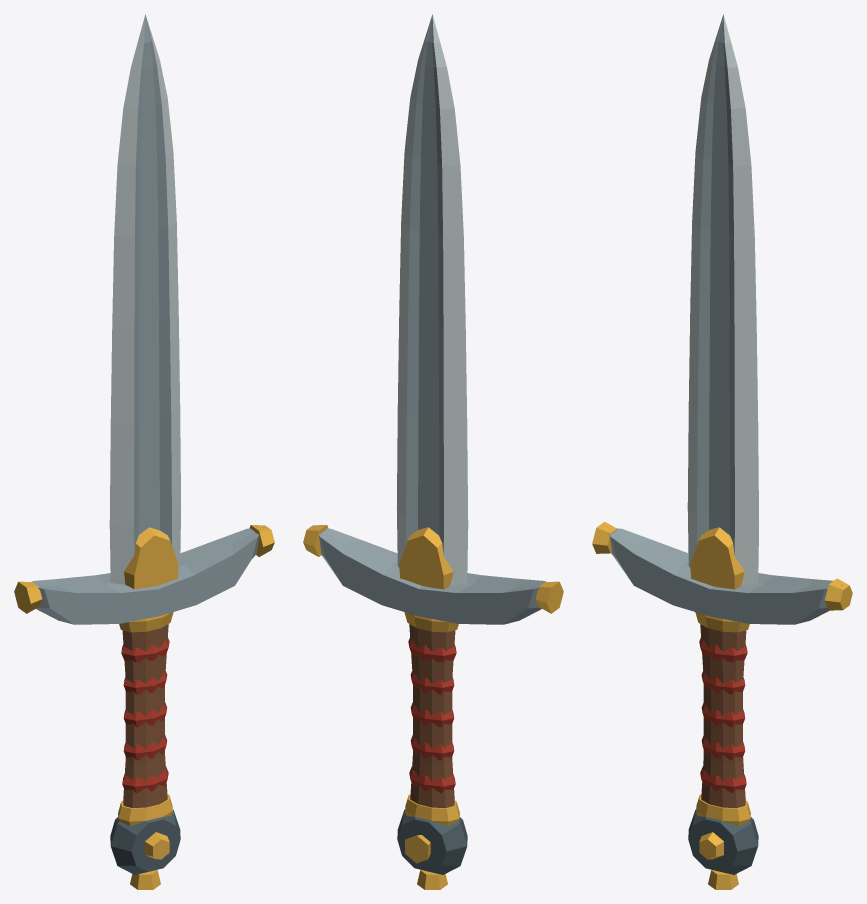
Rendered from iron_sword_world.glb.
The picture shows the model from 3 angles, left to right: view 1: azimuth 30°, elevation 25°; view 2: azimuth 150°, elevation 25°; view 3: azimuth 330°, elevation 25°; orthographic projection.
Visible parts, largest first — view 1: Sword_Blade, Sword_Edge_1, Sword_Guard, Sword_Grip, Sword_Edge_2, Sword_Pommel, Sword_Escutcheon, Sword_Ferrule_1, Sword_Quillon_Cap_1, Sword_Ferrule_2, Sword_Riser_1, Sword_Riser_5 (+3 smaller); view 2: Sword_Blade, Sword_Edge_1, Sword_Guard, Sword_Grip, Sword_Edge_2, Sword_Pommel, Sword_Escutcheon, Sword_Ferrule_1, Sword_Quillon_Cap_1, Sword_Ferrule_2, Sword_Riser_1, Sword_Riser_5 (+3 smaller); view 3: Sword_Blade, Sword_Edge_2, Sword_Guard, Sword_Grip, Sword_Edge_1, Sword_Pommel, Sword_Escutcheon, Sword_Ferrule_1, Sword_Quillon_Cap_2, Sword_Ferrule_2, Sword_Riser_1, Sword_Riser_5 (+4 smaller).
Part boxes in pixels (x1=…): Sword_Blade: x1=134, y1=14, x2=171, y2=553; Sword_Edge_1: x1=109, y1=15, x2=145, y2=584; Sword_Guard: x1=32, y1=527, x2=264, y2=624; Sword_Grip: x1=122, y1=624, x2=168, y2=807; Sword_Edge_2: x1=146, y1=17, x2=180, y2=567; Sword_Pommel: x1=110, y1=809, x2=180, y2=874; Sword_Escutcheon: x1=124, y1=527, x2=178, y2=589; Sword_Ferrule_1: x1=118, y1=794, x2=172, y2=825; Sword_Quillon_Cap_1: x1=14, y1=581, x2=42, y2=613; Sword_Ferrule_2: x1=119, y1=612, x2=173, y2=632; Sword_Riser_1: x1=122, y1=766, x2=168, y2=793; Sword_Riser_5: x1=121, y1=638, x2=169, y2=662; Sword_Blade: x1=406, y1=14, x2=443, y2=554; Sword_Edge_1: x1=432, y1=15, x2=468, y2=585; Sword_Guard: x1=313, y1=527, x2=545, y2=624; Sword_Grip: x1=409, y1=624, x2=455, y2=807; Sword_Edge_2: x1=397, y1=17, x2=431, y2=567; Sword_Pommel: x1=397, y1=809, x2=467, y2=874; Sword_Escutcheon: x1=399, y1=527, x2=453, y2=589; Sword_Ferrule_1: x1=405, y1=794, x2=459, y2=825; Sword_Quillon_Cap_1: x1=535, y1=581, x2=563, y2=613; Sword_Ferrule_2: x1=404, y1=612, x2=458, y2=632; Sword_Riser_1: x1=409, y1=766, x2=455, y2=793; Sword_Riser_5: x1=408, y1=638, x2=456, y2=662; Sword_Blade: x1=697, y1=15, x2=734, y2=554; Sword_Edge_2: x1=723, y1=14, x2=759, y2=585; Sword_Guard: x1=608, y1=528, x2=842, y2=624; Sword_Grip: x1=700, y1=624, x2=746, y2=807; Sword_Edge_1: x1=687, y1=16, x2=722, y2=567; Sword_Pommel: x1=688, y1=809, x2=758, y2=874; Sword_Escutcheon: x1=690, y1=527, x2=744, y2=589; Sword_Ferrule_1: x1=696, y1=794, x2=750, y2=825; Sword_Quillon_Cap_2: x1=824, y1=578, x2=852, y2=610; Sword_Ferrule_2: x1=695, y1=612, x2=749, y2=632; Sword_Riser_1: x1=700, y1=766, x2=746, y2=793; Sword_Riser_5: x1=699, y1=638, x2=747, y2=662.
Bounding box in the file's own units: 0.51 × 1.72 × 0.114.
